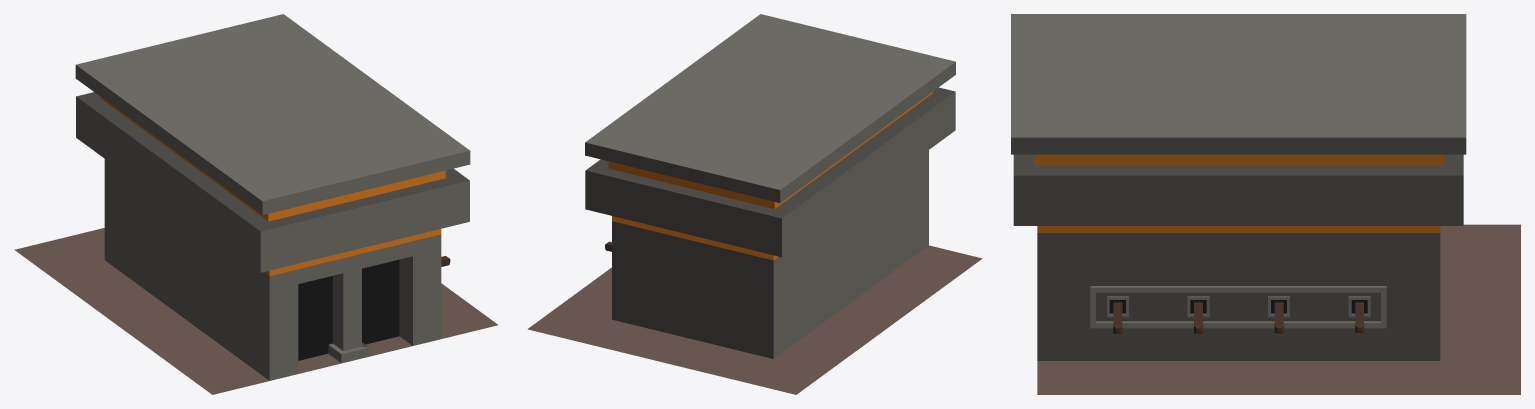
Rendered from Poker-lvl002.fbx.
3 views of the same model, side by side, from view 1: azimuth 30°, elevation 25°; view 2: azimuth 150°, elevation 25°; view 3: azimuth 270°, elevation 25° (orthographic). The views are drawn at different scales.
Visible parts, largest first — view 1: Stabber; view 2: Stabber; view 3: Stabber, Stabbers.
Boxes of the visible parts, x1,y1,x2,y2 form: Stabber: (14,14,498,394); Stabber: (527,14,982,394); Stabber: (1011,14,1520,394); Stabbers: (1113,302,1363,333).
Bounding box in the file's own units: 500 × 320 × 632.
